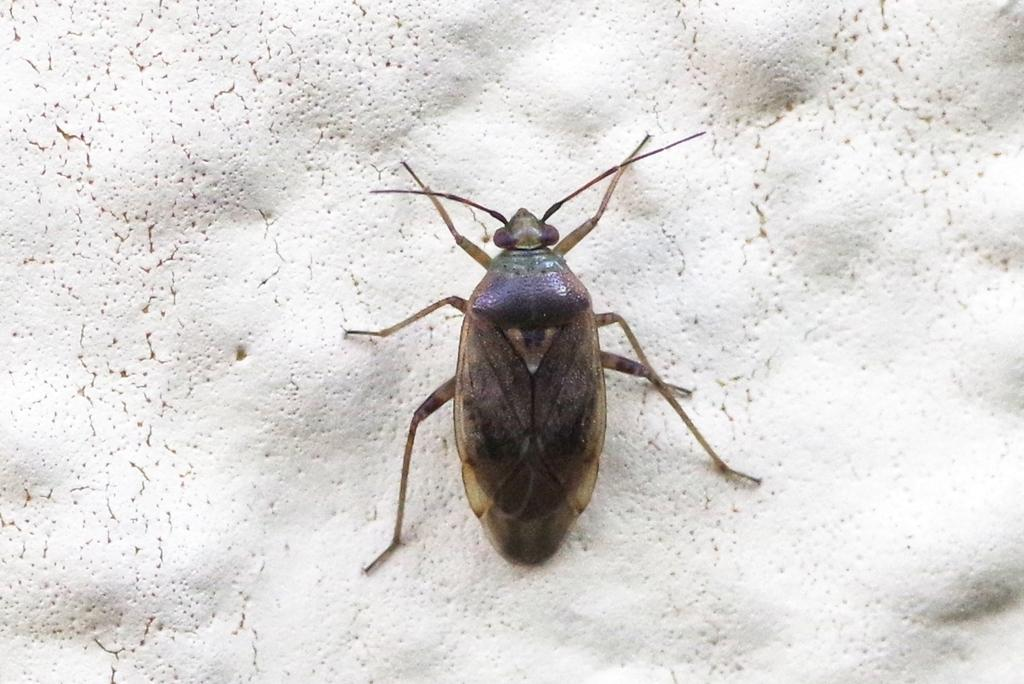plant_bugs: (257, 88, 805, 657)
